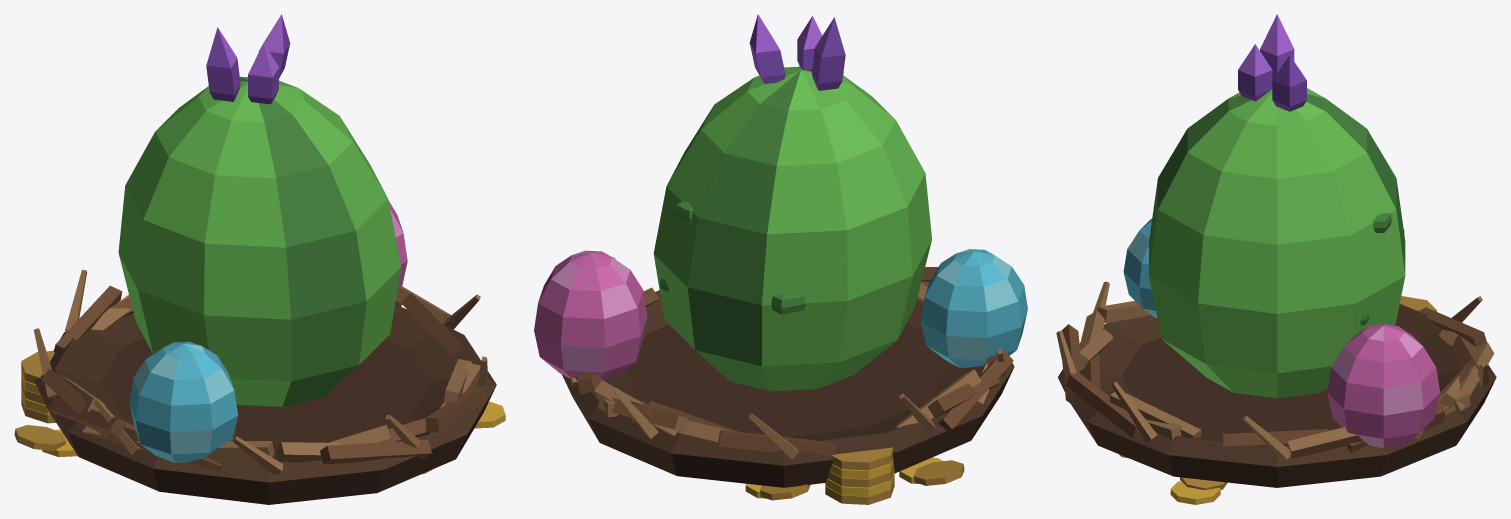
File: Decor_WizardTower_Egg.fbx
3 renders of one model, left to right at view 1: azimuth 30°, elevation 25°; view 2: azimuth 150°, elevation 25°; view 3: azimuth 270°, elevation 25°, orthographic. The views are drawn at different scales.
Visible parts, largest first — view 1: Egg_Body; view 2: Egg_Body; view 3: Egg_Body.
Part boxes in pixels (x1,y1,x2,y2): Egg_Body: (14,14,505,504); Egg_Body: (534,14,1027,504); Egg_Body: (1056,14,1496,504).
Size of the model in its own units: 14 by 13.5 by 14.
